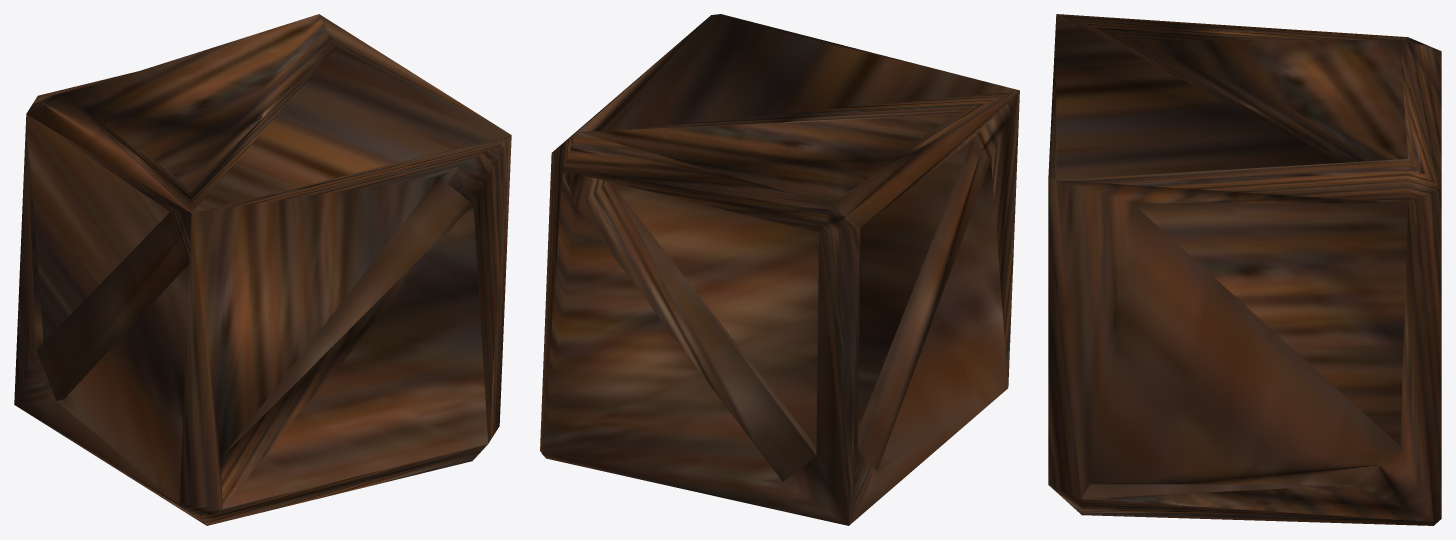
The picture shows the model from 3 angles, left to right: view 1: azimuth 30°, elevation 25°; view 2: azimuth 150°, elevation 25°; view 3: azimuth 270°, elevation 25°; orthographic projection. The views are drawn at different scales.
Visible parts, largest first — view 1: crate_1; view 2: crate_1; view 3: crate_1.
Part boxes in pixels (x1,y1,x2,y2): crate_1: (14,14,511,525); crate_1: (540,14,1019,525); crate_1: (1048,14,1441,525).
Bounding box in the file's own units: 0.9 × 0.9 × 0.9.
1 material, 1 textured.
